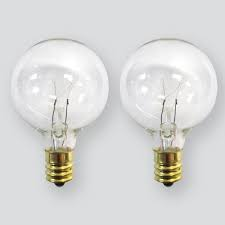bulb: (115, 37, 223, 181), (9, 35, 114, 175)
